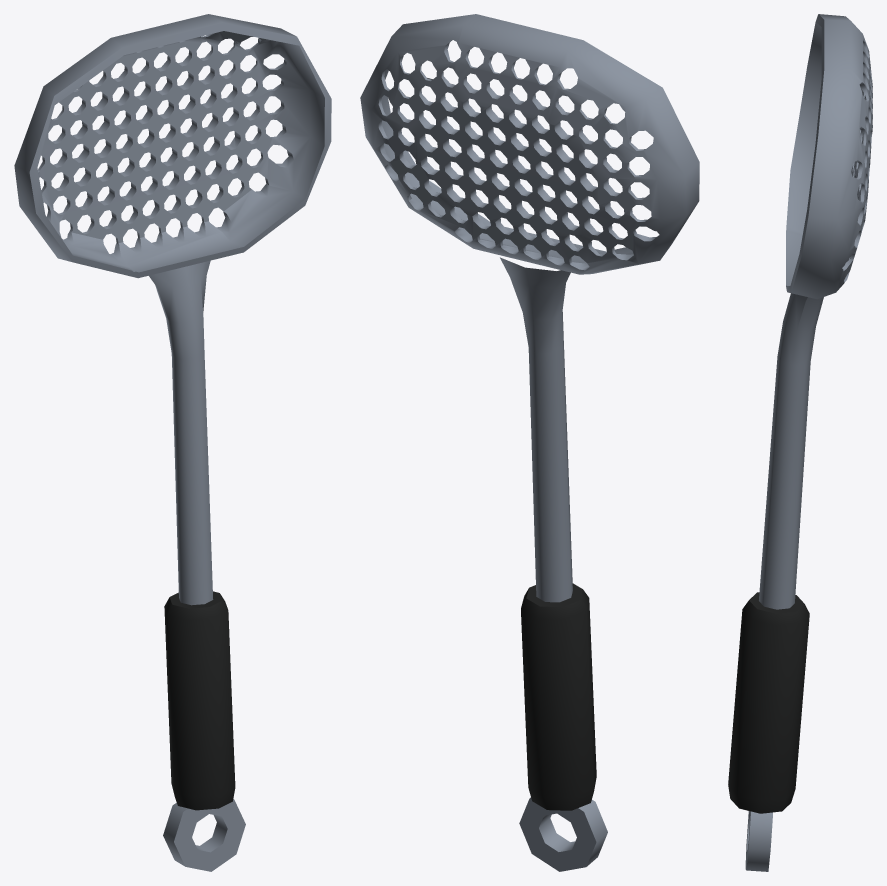
Rendered from Skimmer.glb.
3 renders of one model, left to right at view 1: azimuth 30°, elevation 25°; view 2: azimuth 150°, elevation 25°; view 3: azimuth 270°, elevation 25°, orthographic. The views are drawn at different scales.
Parts seen in each view (by area): view 1: cutensils_skimmer_Cylinder.034; view 2: cutensils_skimmer_Cylinder.034; view 3: cutensils_skimmer_Cylinder.034.
Boxes of the visible parts, x1,y1,x2,y2 form: cutensils_skimmer_Cylinder.034: (14,14,331,871); cutensils_skimmer_Cylinder.034: (360,14,699,871); cutensils_skimmer_Cylinder.034: (728,14,872,871).
Size of the model in its own units: 2.95 by 7.52 by 1.19.
Materials: 1 (1 with a texture image).
